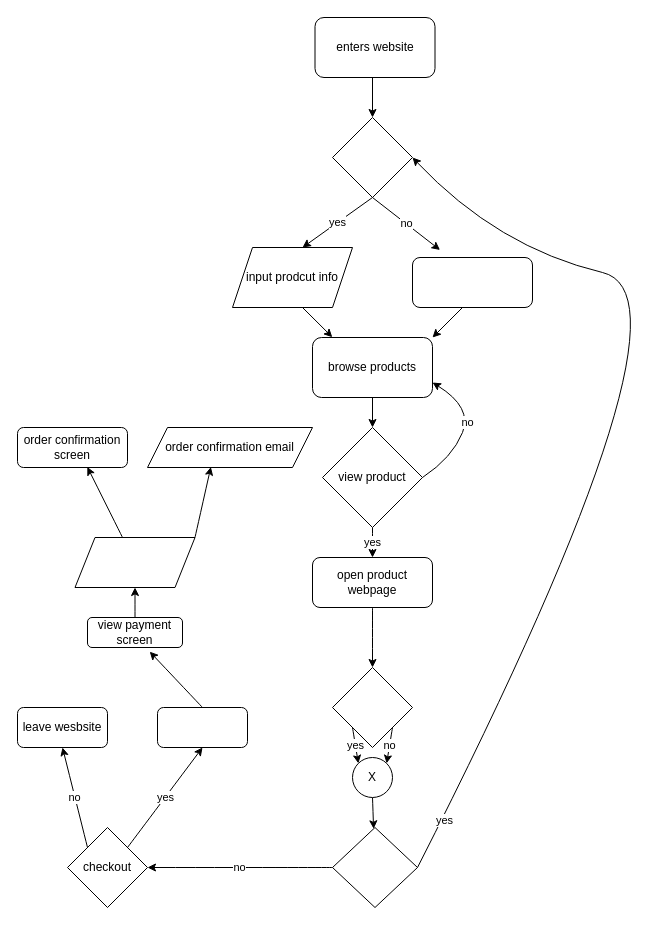
Some shapes in this 648 by 925 pixel diagram are drawn without their labels. Each missing label, with the box of its shape:
add product to cart: (332, 666, 412, 748)
continue shopping: (332, 826, 418, 908)
explore products: (412, 256, 532, 308)
input information: (74, 536, 195, 588)
open viewcart screen: (156, 706, 248, 748)
search products: (332, 116, 412, 198)
